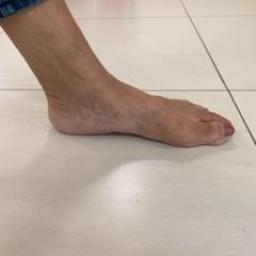Medial View -Left Foot-: (24, 50, 246, 162)
